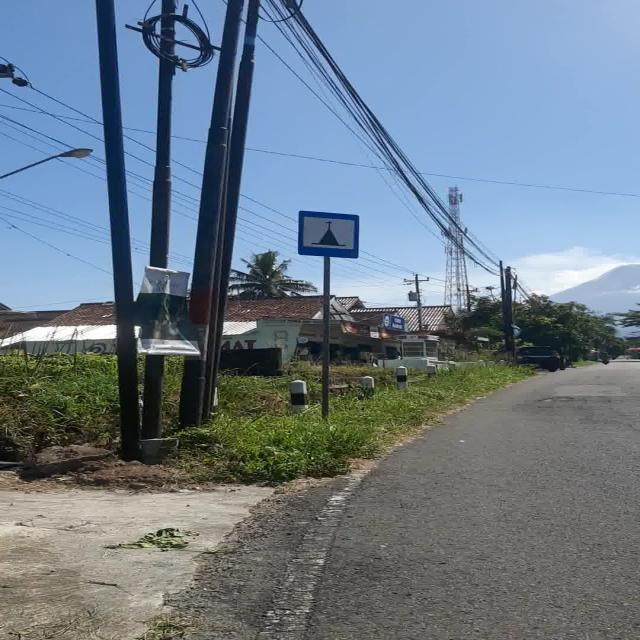Gereja: (298, 210, 360, 259)
